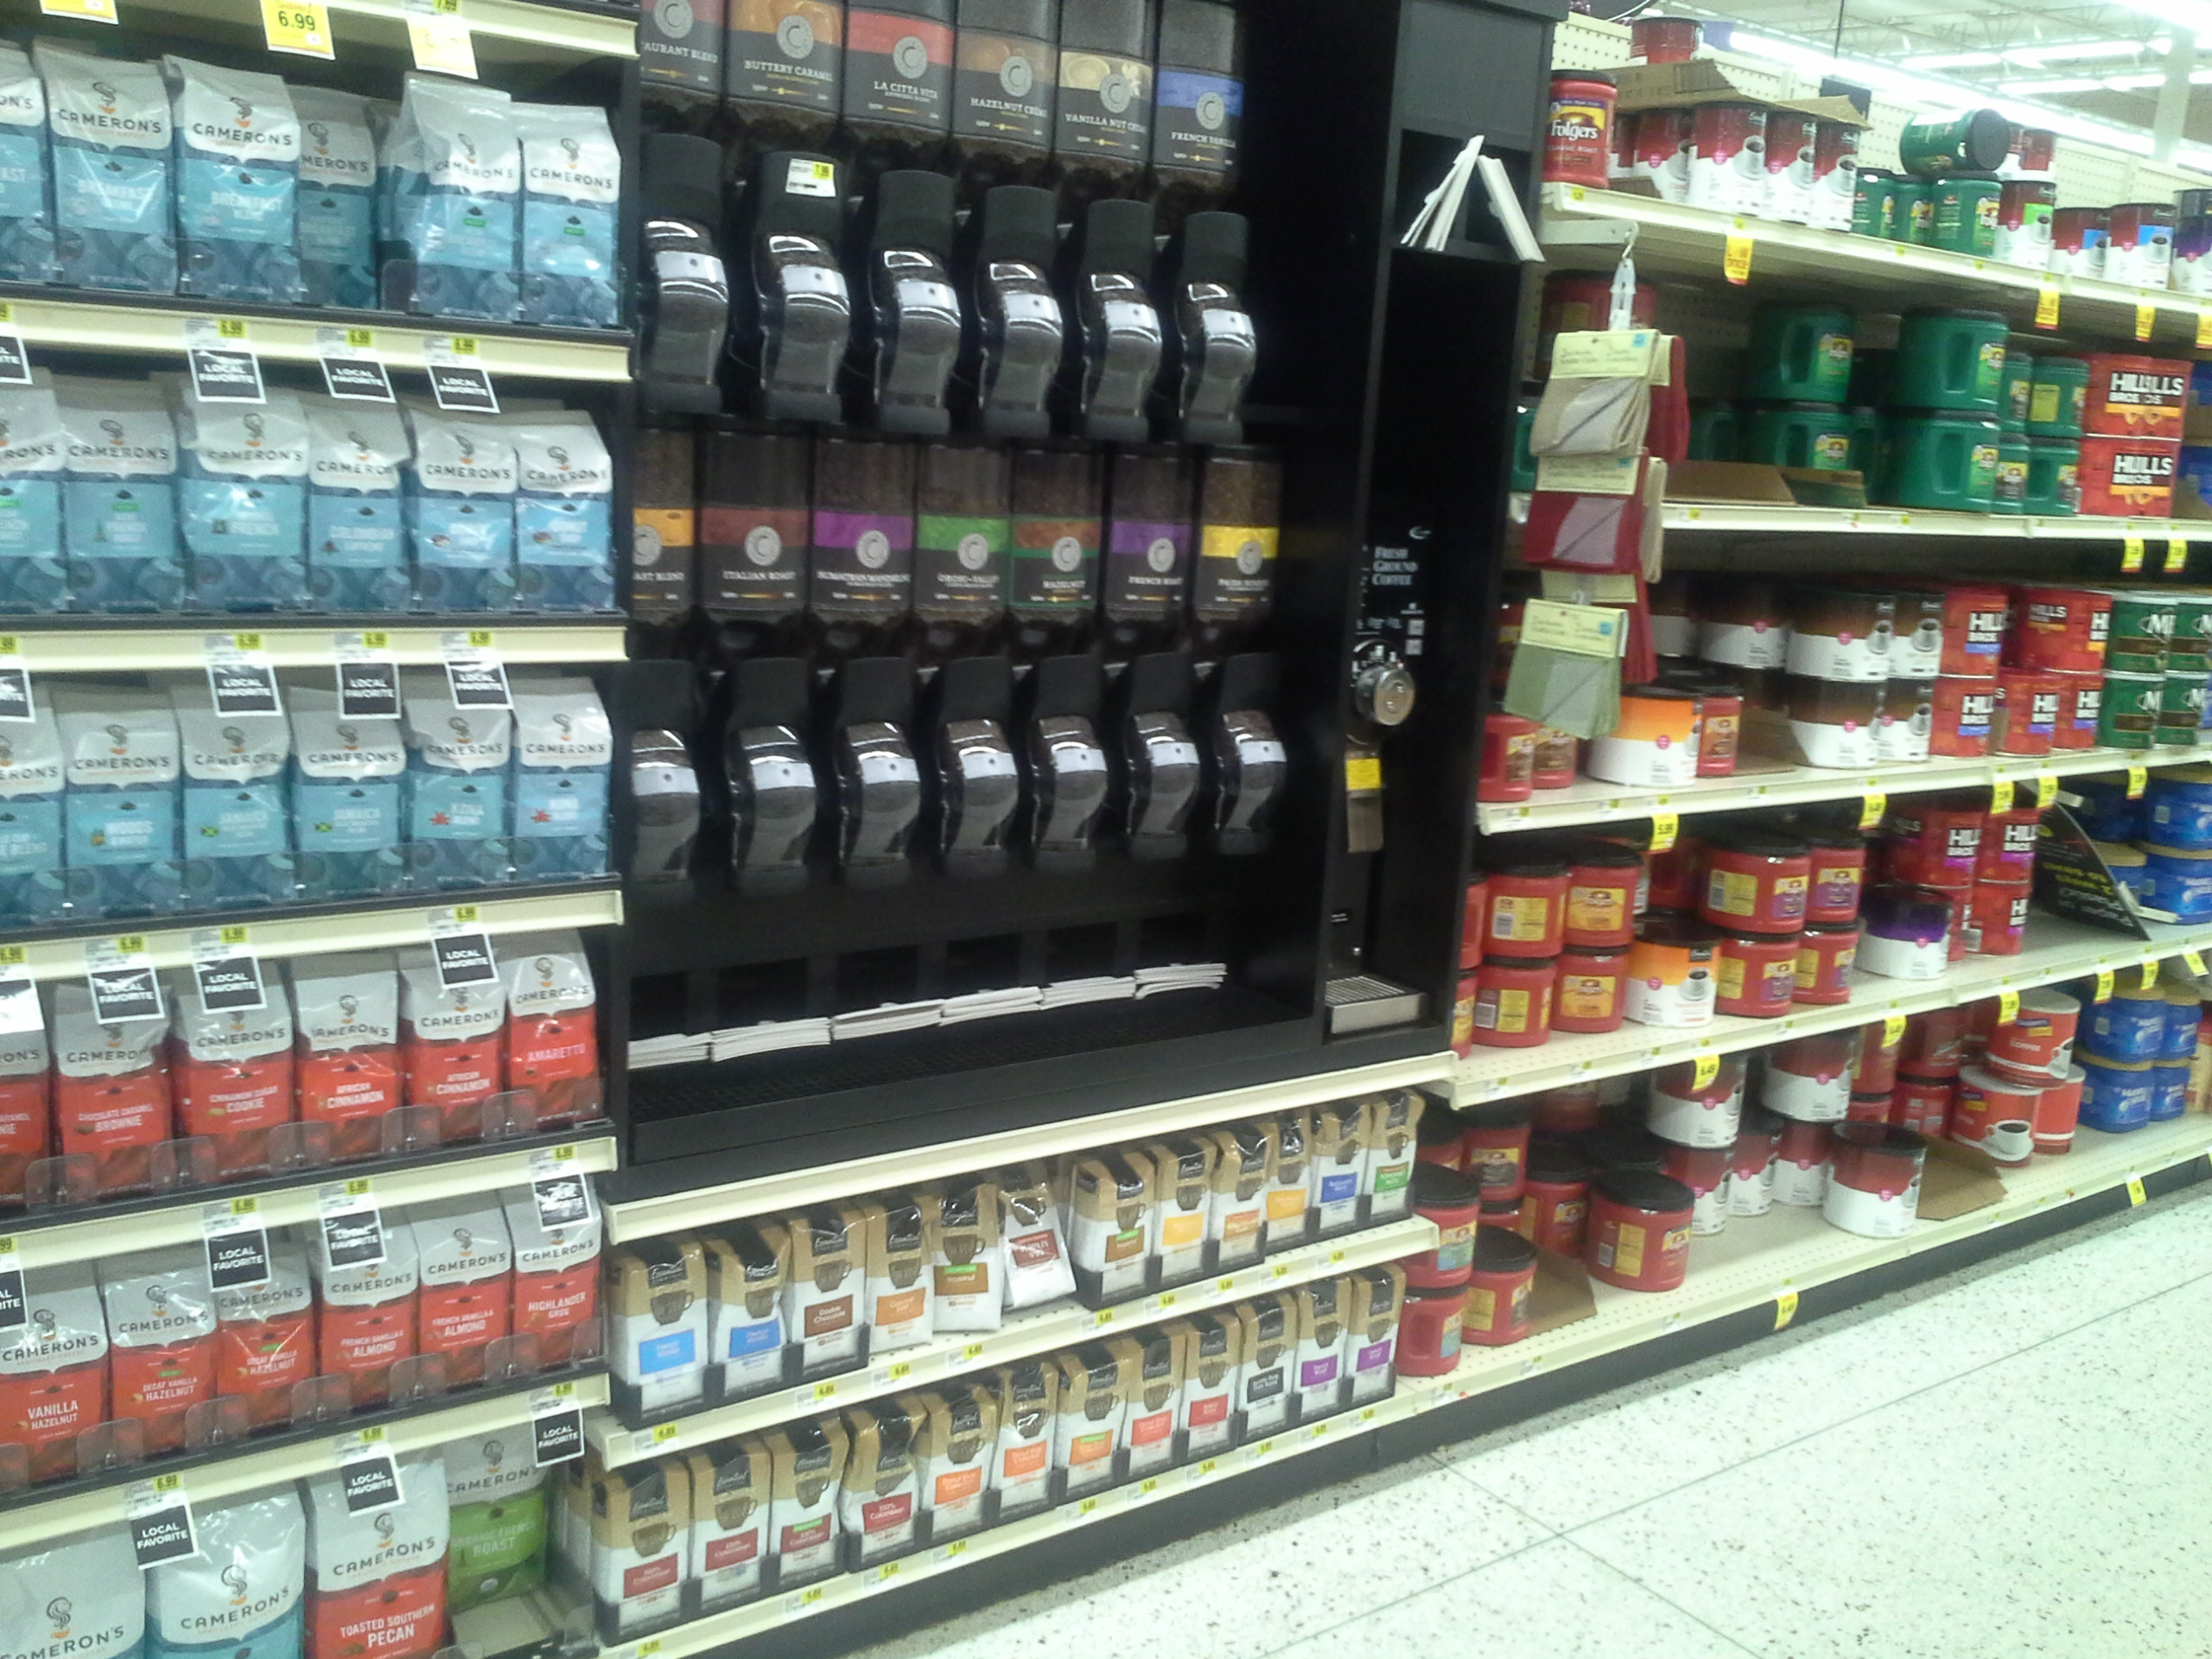Misplacement: (1703, 1042, 1848, 1314), (1784, 315, 1972, 518), (427, 1439, 577, 1654), (1831, 809, 1961, 1009), (1634, 816, 1719, 1037)
Out-of-stock: (1745, 580, 1829, 796)
